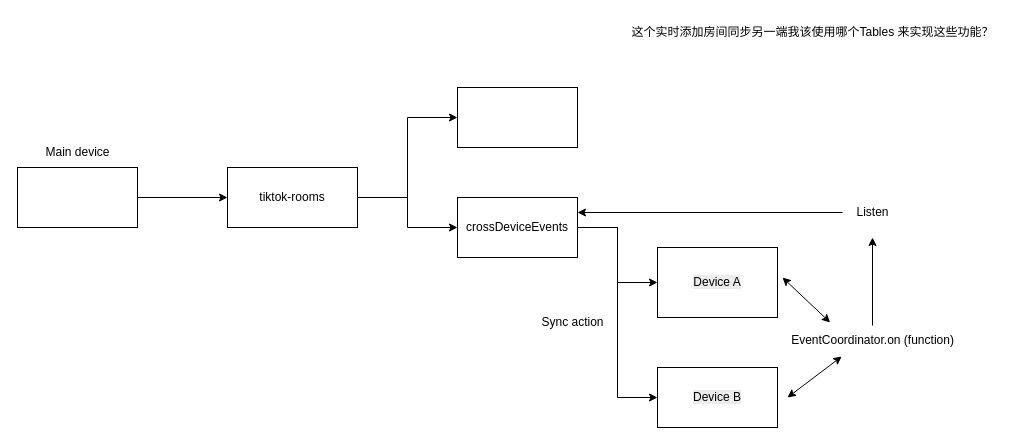
Some shapes in this 1025 by 445 pixel diagram are drawn without their labels. Each missing label, with the centre of its shape:
"add room" goes at point 77,197.
"room_realtime_status" goes at point 517,117.
